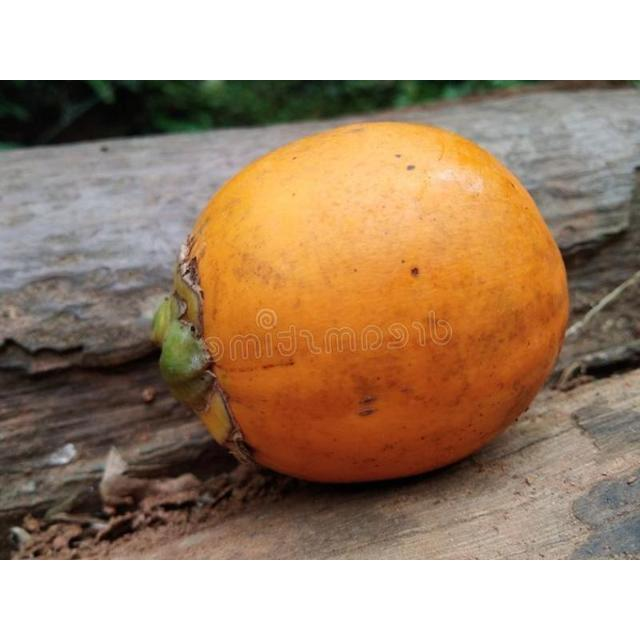good: (152, 122, 572, 487)
